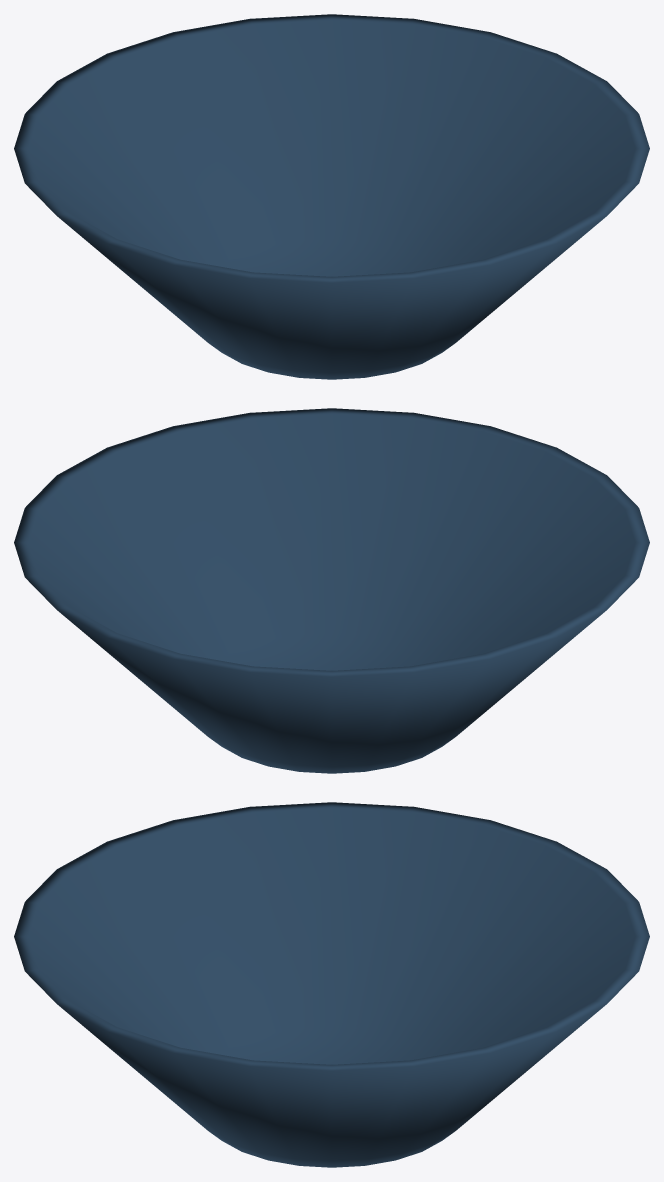
The model's file is i_bowl_1.glb.
The picture shows the model from 3 angles, top to bottom: view 1: azimuth 30°, elevation 25°; view 2: azimuth 150°, elevation 25°; view 3: azimuth 270°, elevation 25°; orthographic projection.
Parts seen in each view (by area): view 1: o; view 2: o; view 3: o.
Part boxes in pixels (x1,y1,x2,y2): o: (14,14,649,379); o: (14,408,649,773); o: (14,802,649,1167).
Size of the model in its own units: 0.26 by 0.08 by 0.26.
